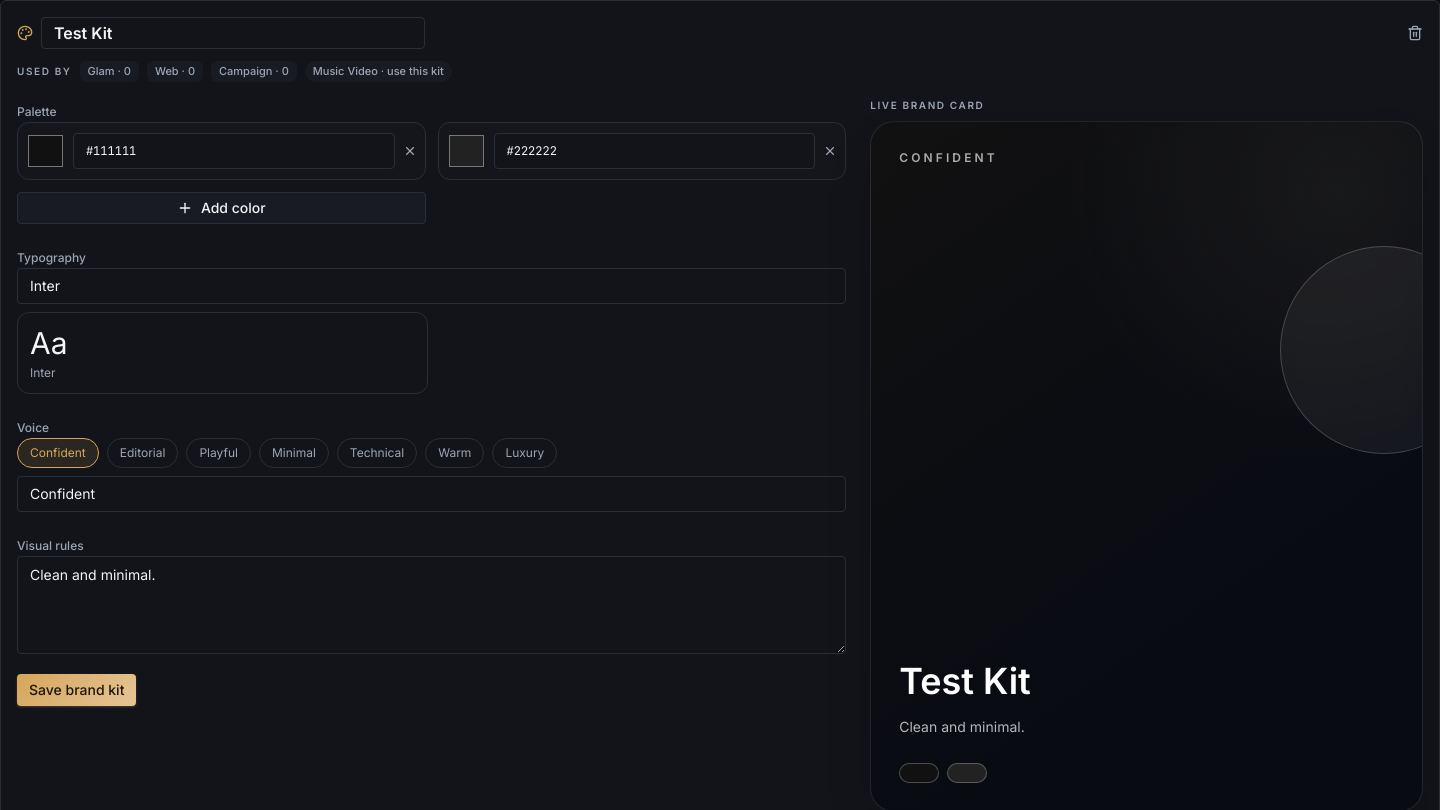
Test: BrandKitCard active toggle › activates on click, and persists it as the store's active brand kit
Click the button "Music Video · use this kit": (378, 71) [305, 61, 452, 82]
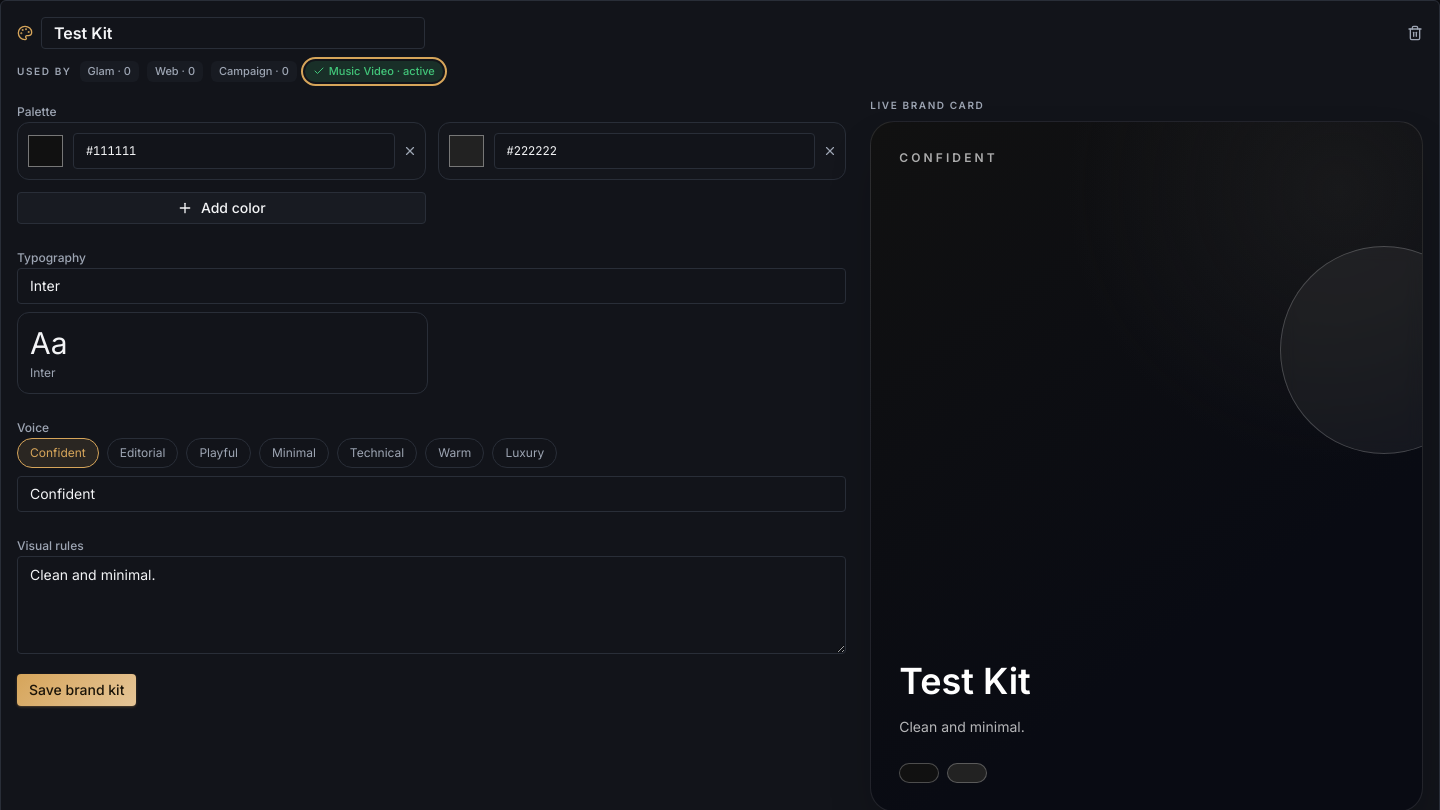
Check: the button "Music Video · active" is shown, box [305, 61, 443, 82]
